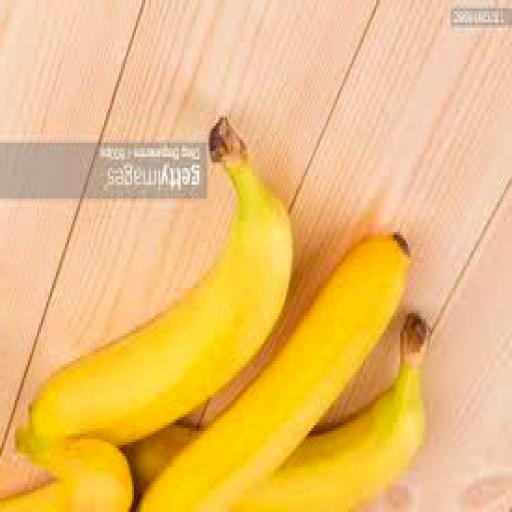banana: (22, 117, 291, 452), (139, 235, 408, 511), (230, 313, 427, 511), (234, 316, 427, 511), (0, 439, 131, 511), (0, 484, 64, 511)
